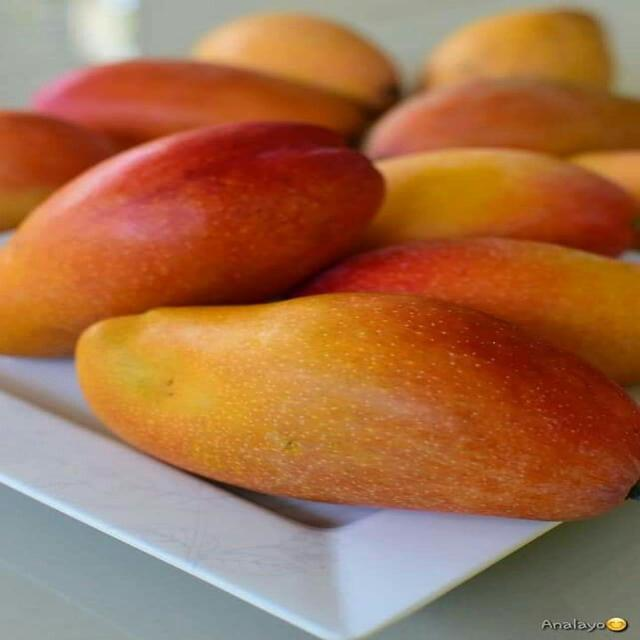mango: (77, 294, 639, 519), (0, 123, 383, 355), (298, 238, 639, 383), (365, 149, 639, 255), (34, 60, 369, 144), (367, 79, 639, 157), (194, 12, 399, 109), (421, 8, 612, 88), (0, 111, 115, 231), (572, 150, 639, 203)
